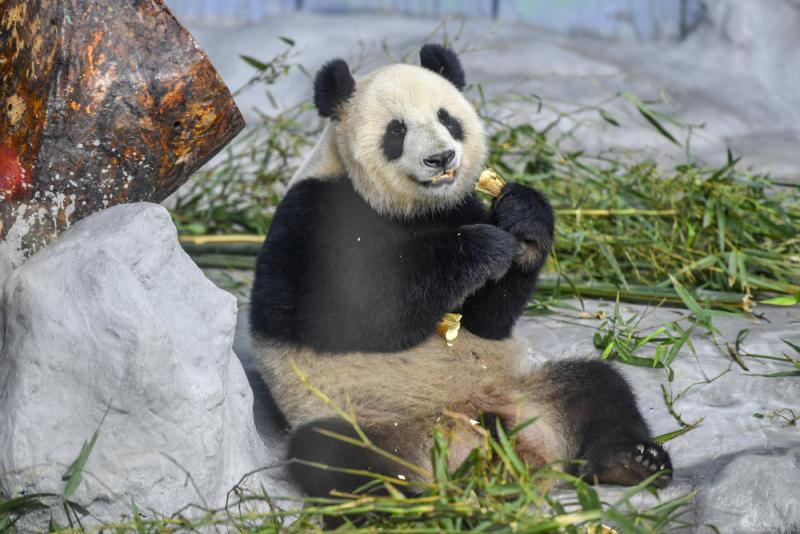panda: (253, 43, 676, 501)
